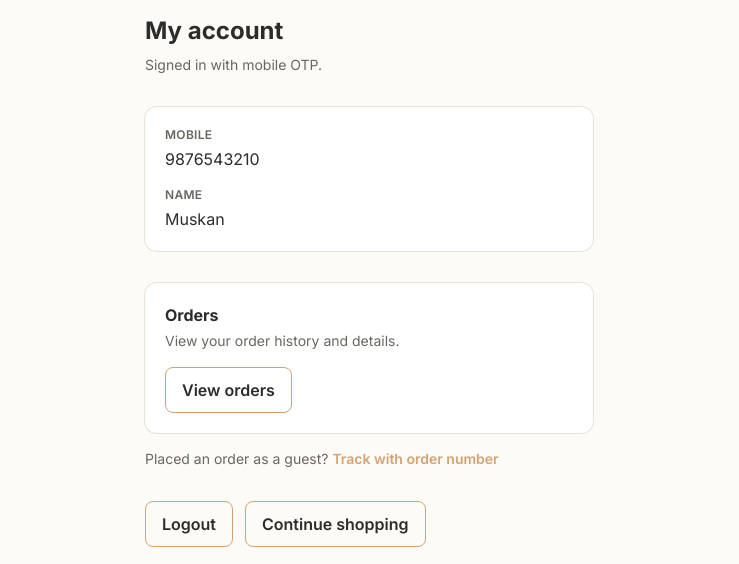
Test: Customer order pages › navigates from account to order list
This screenshot has width=739, height=564.
Expected: the heading "My account" is shown, 145,16 -> 283,45
Click the button "View orders" at x=228, y=390, box 165,367 -> 292,413
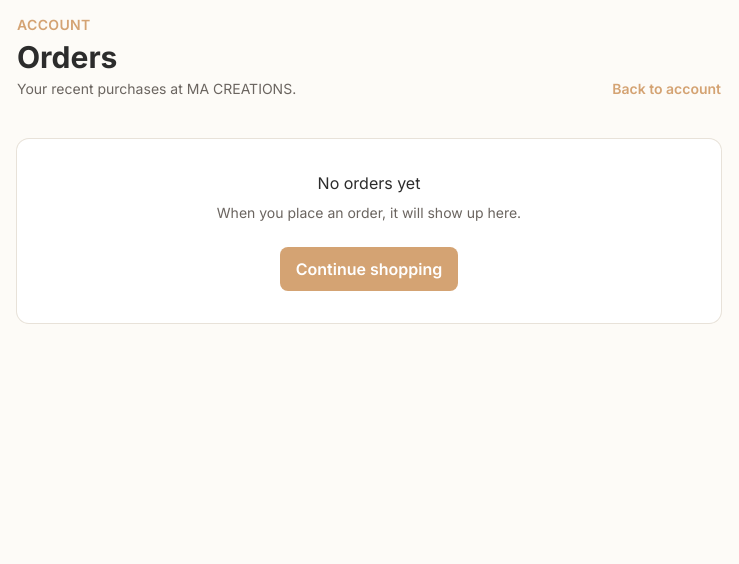
Expected: the heading "Orders" is shown, 17,39 -> 117,75
Expected: the text "No orders yet" is shown, 318,173 -> 420,193
